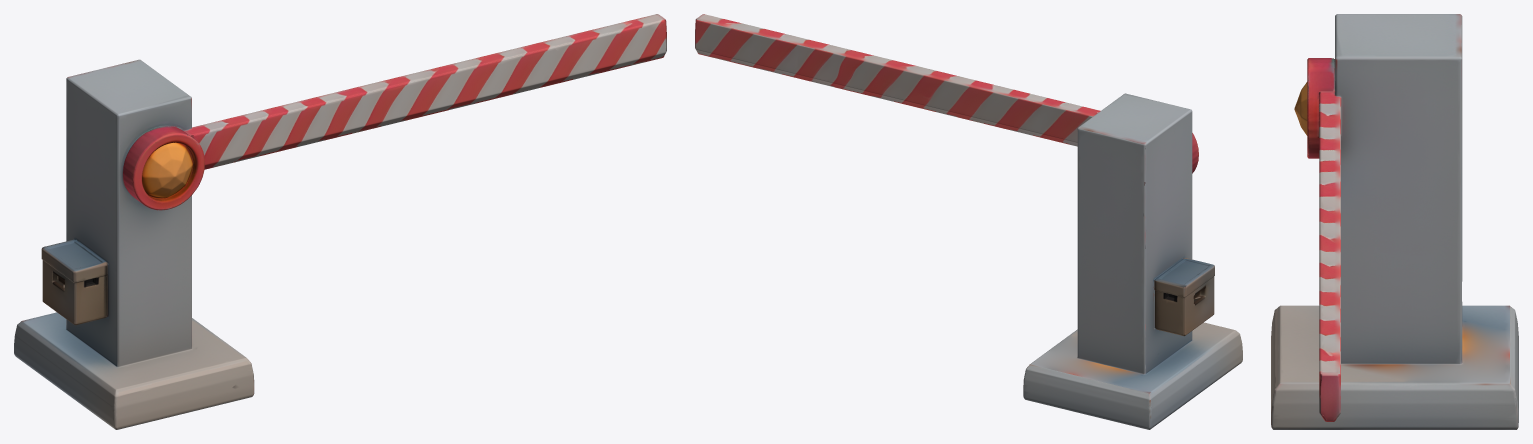
File: TollBarrierArm.fbx
3 renders of one model, left to right at view 1: azimuth 30°, elevation 25°; view 2: azimuth 150°, elevation 25°; view 3: azimuth 270°, elevation 25°, orthographic. The views are drawn at different scales.
Parts seen in each view (by area): view 1: texture_pbr_v128; view 2: texture_pbr_v128; view 3: texture_pbr_v128.
Part boxes in pixels (x1,y1,x2,y2): texture_pbr_v128: (14,14,666,429); texture_pbr_v128: (695,14,1242,429); texture_pbr_v128: (1271,14,1518,429).
Bounding box in the file's own units: 106 × 50.97 × 32.51.
Materials: 1 (1 with a texture image).
